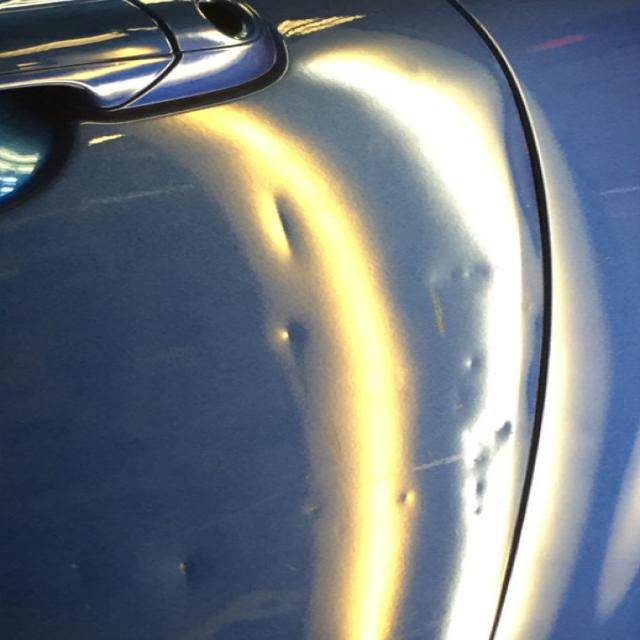dents: (232, 163, 359, 279), (249, 307, 378, 414), (459, 426, 562, 535), (417, 241, 543, 314), (146, 527, 232, 606), (51, 532, 161, 589), (376, 479, 463, 545), (282, 479, 356, 554), (434, 345, 488, 375)
